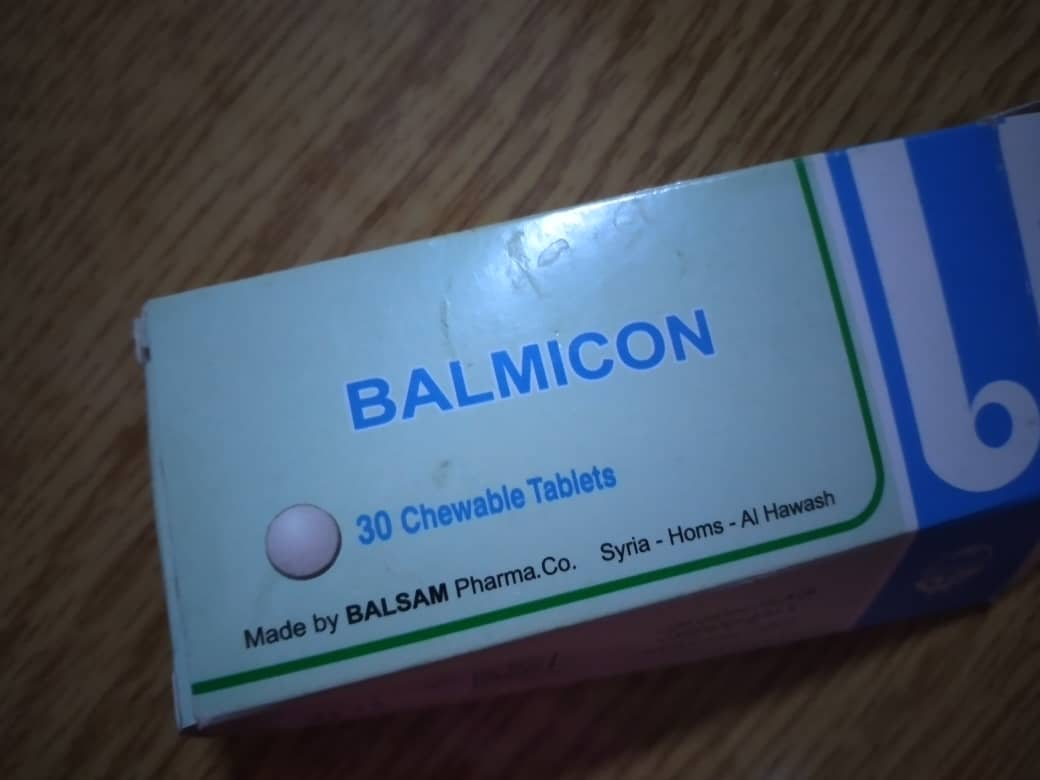Medicine: (96, 108, 1040, 750)
